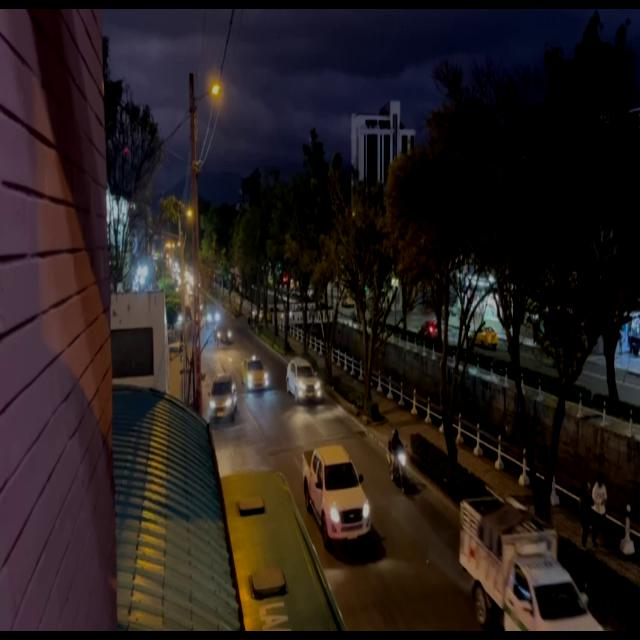CMT: (462, 494, 602, 632), (307, 451, 371, 542)
MOTORCYCLE: (385, 450, 409, 493)
SUV: (287, 362, 319, 403), (210, 376, 237, 420)
